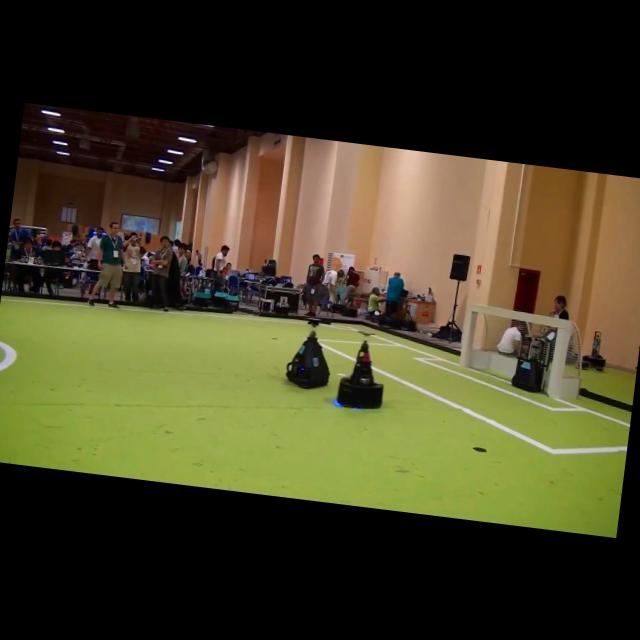goal: (547, 319, 570, 398), (459, 304, 477, 367)
robot: (337, 340, 383, 409), (286, 330, 329, 388), (511, 335, 549, 391)
